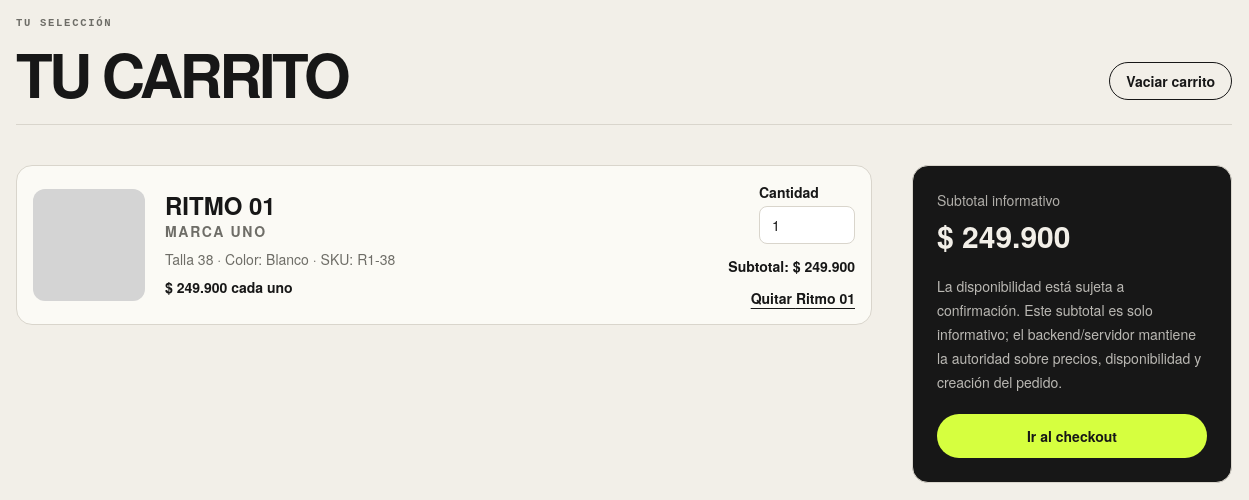
Test: cart review page › renders an actionable empty state and can clear all items
Expected: the heading "Tu carrito" is shown, 16,47 -> 347,100
Click the button "Vaciar carrito" at (1171, 81), box 1109,62 -> 1232,100
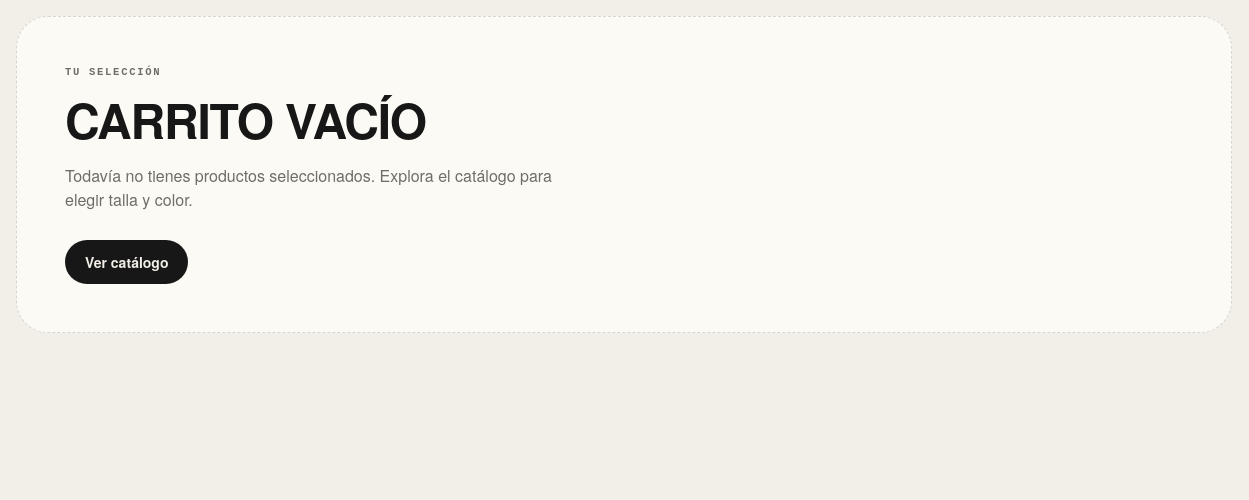
Expected: the message shows "Carrito vacío", 65,85 -> 426,154
